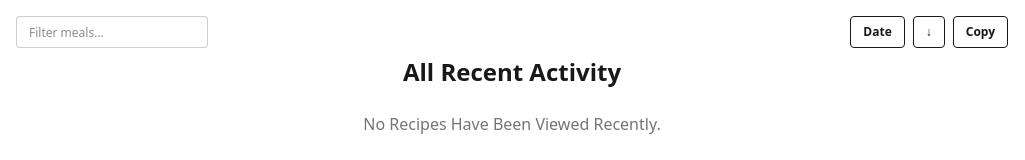
it: RecentsView › toggles sortAsc when the sort asc/desc button is clicked
What coordinates should you click on to do the following:
click the button titled "Toggle ascending/descending"
I would click on:
 (929, 32)
Its box is 913,16 -> 945,48.
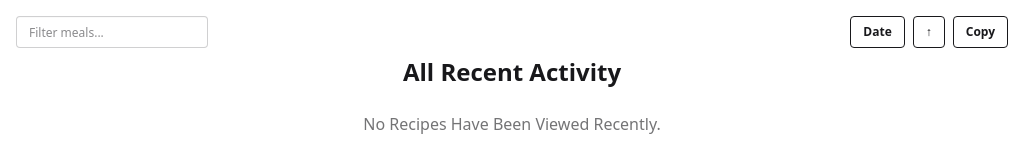
expect the button "↑" is shown: met
What coordinates should you click on to do the following:
click the button "↑"
I would click on:
 (929, 32)
Its box is 913,16 -> 945,48.
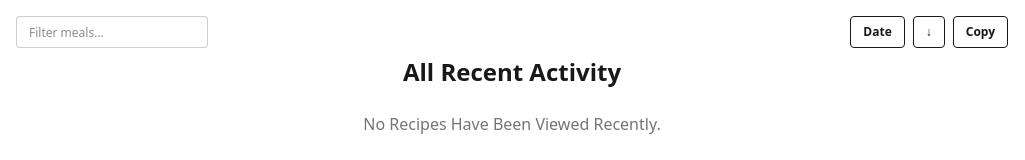
expect the button "↓" is shown: met, box 913,16 -> 945,48
